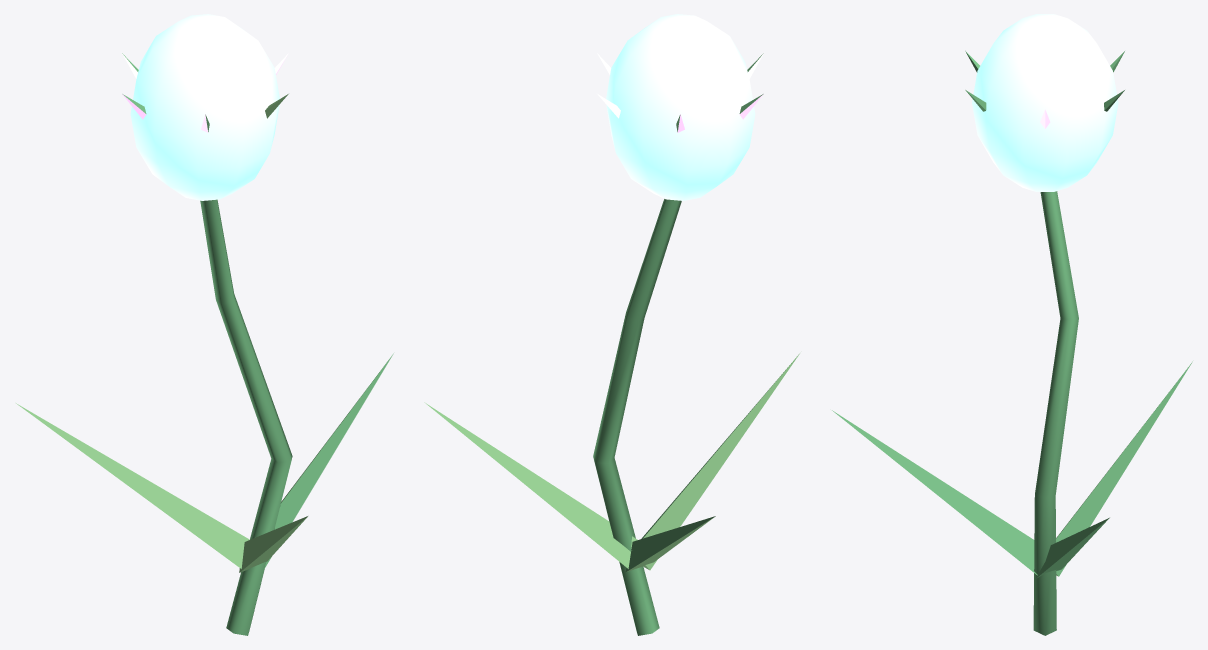
File: flower_glow.glb
The picture shows the model from 3 angles, left to right: view 1: azimuth 30°, elevation 25°; view 2: azimuth 150°, elevation 25°; view 3: azimuth 270°, elevation 25°; orthographic projection. The views are drawn at different scales.
Parts seen in each view (by area): view 1: Flower_Glow; view 2: Flower_Glow; view 3: Flower_Glow.
Boxes of the visible parts, x1,y1,x2,y2 form: Flower_Glow: (16,14,393,635); Flower_Glow: (424,14,799,635); Flower_Glow: (832,14,1192,635).
Bounding box in the file's own units: 1.52 × 2.69 × 1.49.
